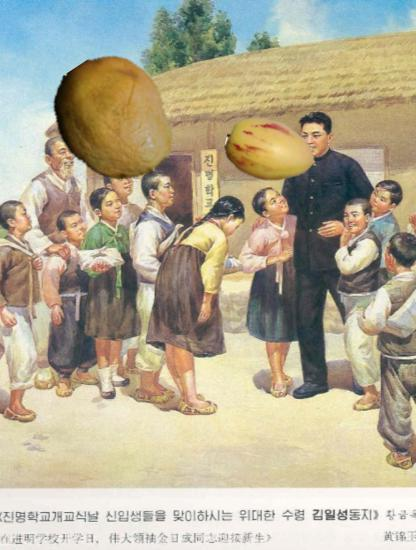Papaya: (49, 55, 180, 186)
Pepino: (225, 105, 317, 197)
